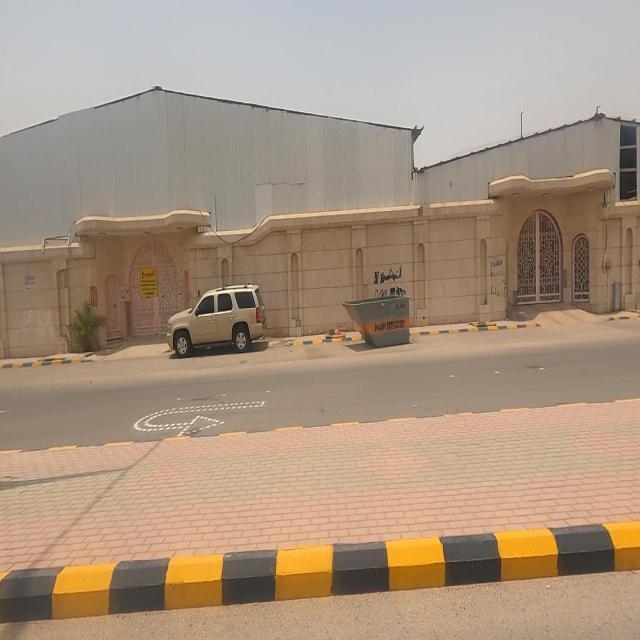Graffiti: (374, 265, 407, 297), (492, 257, 506, 303)
